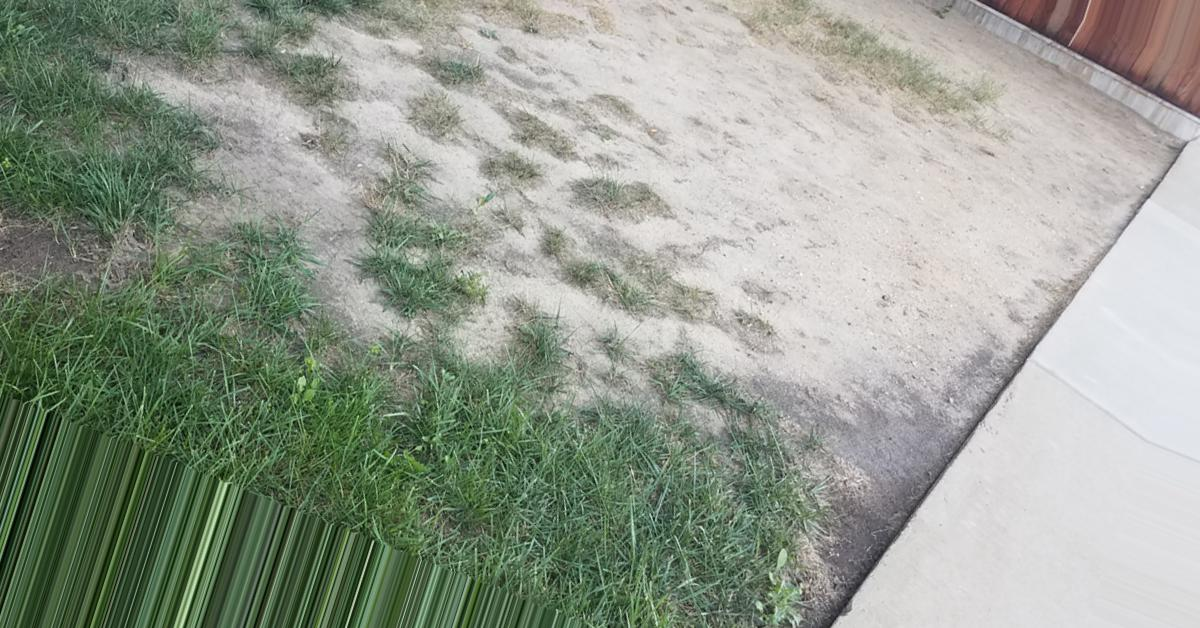patch: (685, 113, 995, 362), (478, 196, 646, 356), (324, 49, 505, 165), (574, 23, 852, 90), (1024, 95, 1104, 241)
